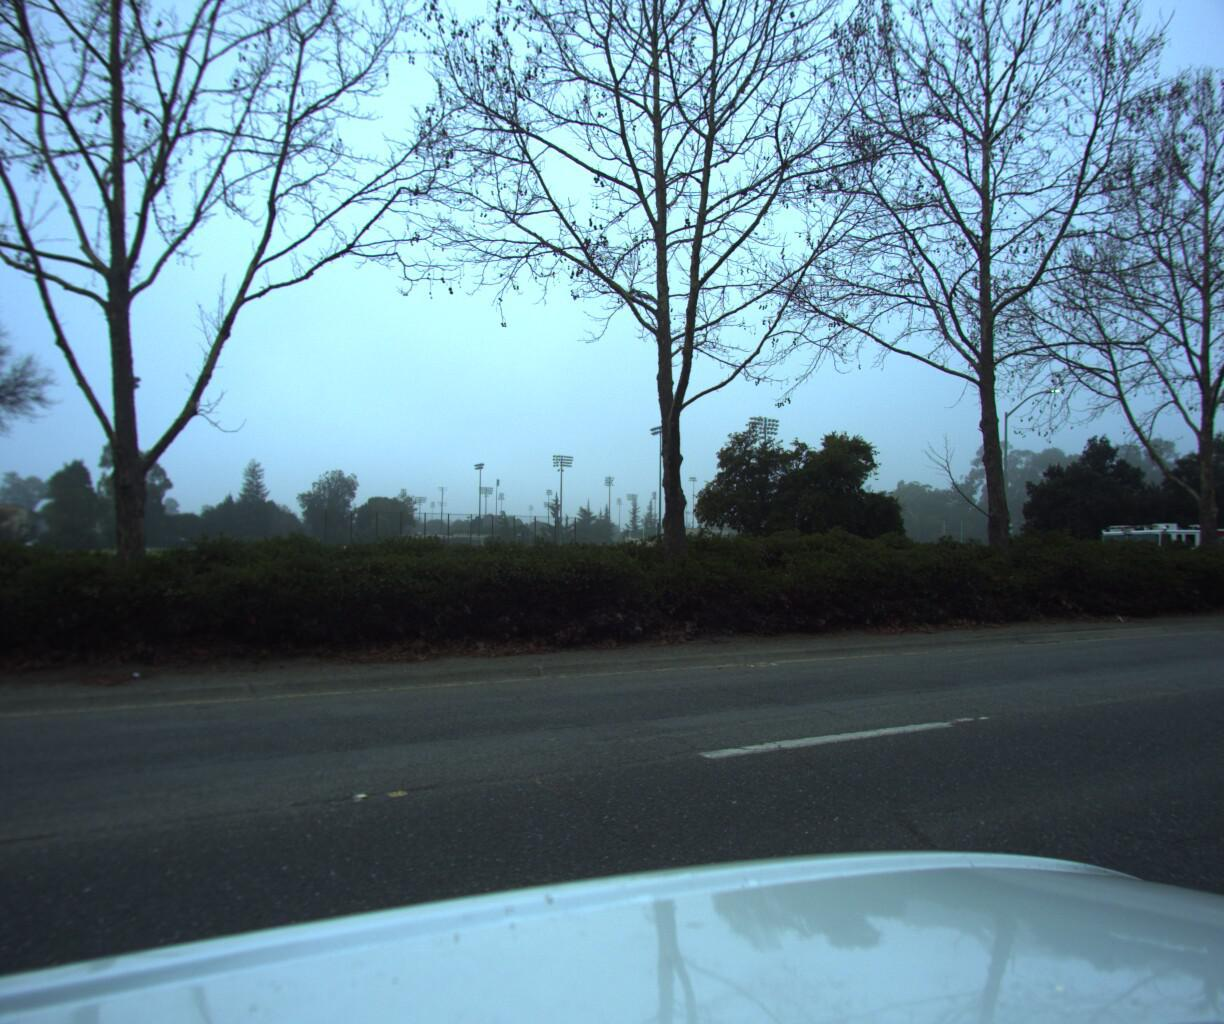emergency_vehicle: (1089, 514, 1224, 580)
